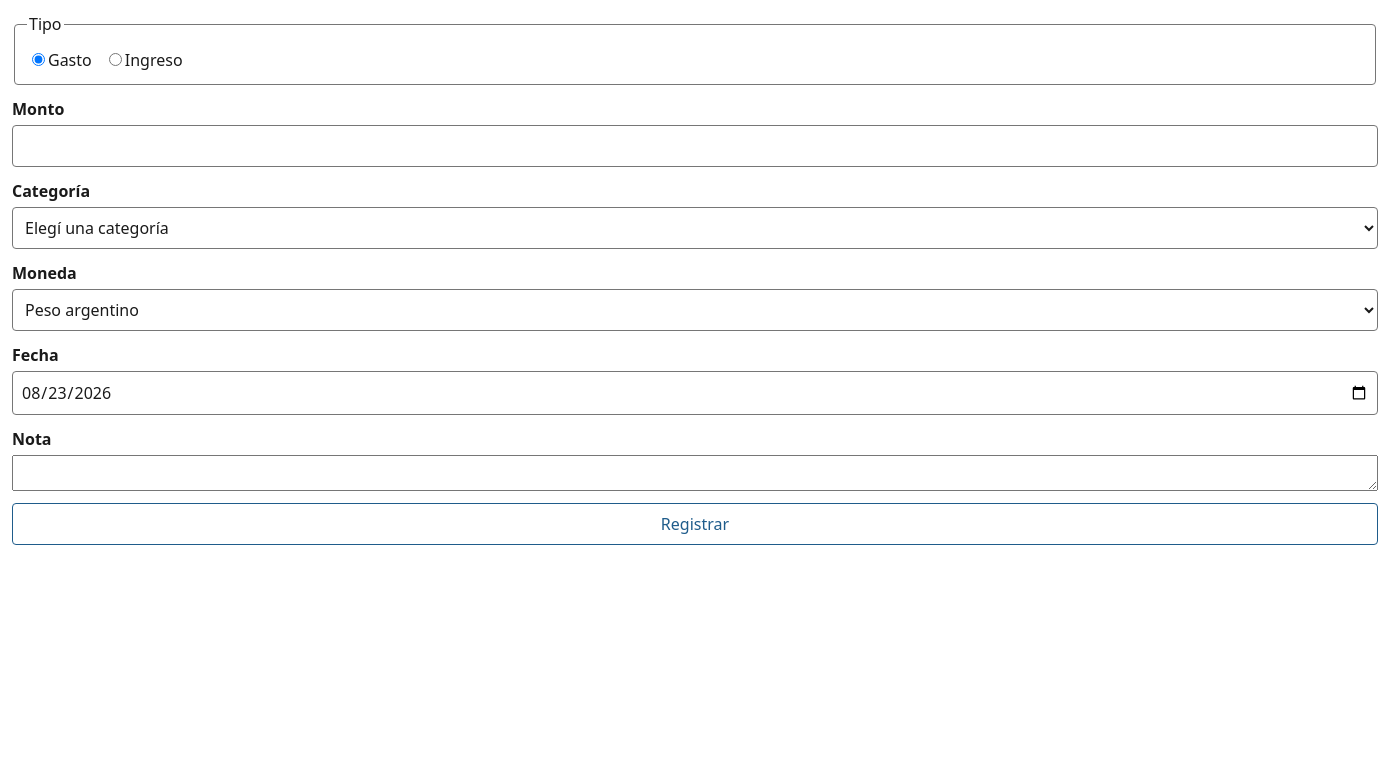
Test: validación en el formulario › muestra el error de categoría junto a su selector AC-40
The width and height of the screenshot is (1390, 780).
In the number field labelled "Monto": (695, 146) [12, 125, 1378, 167], type "100"
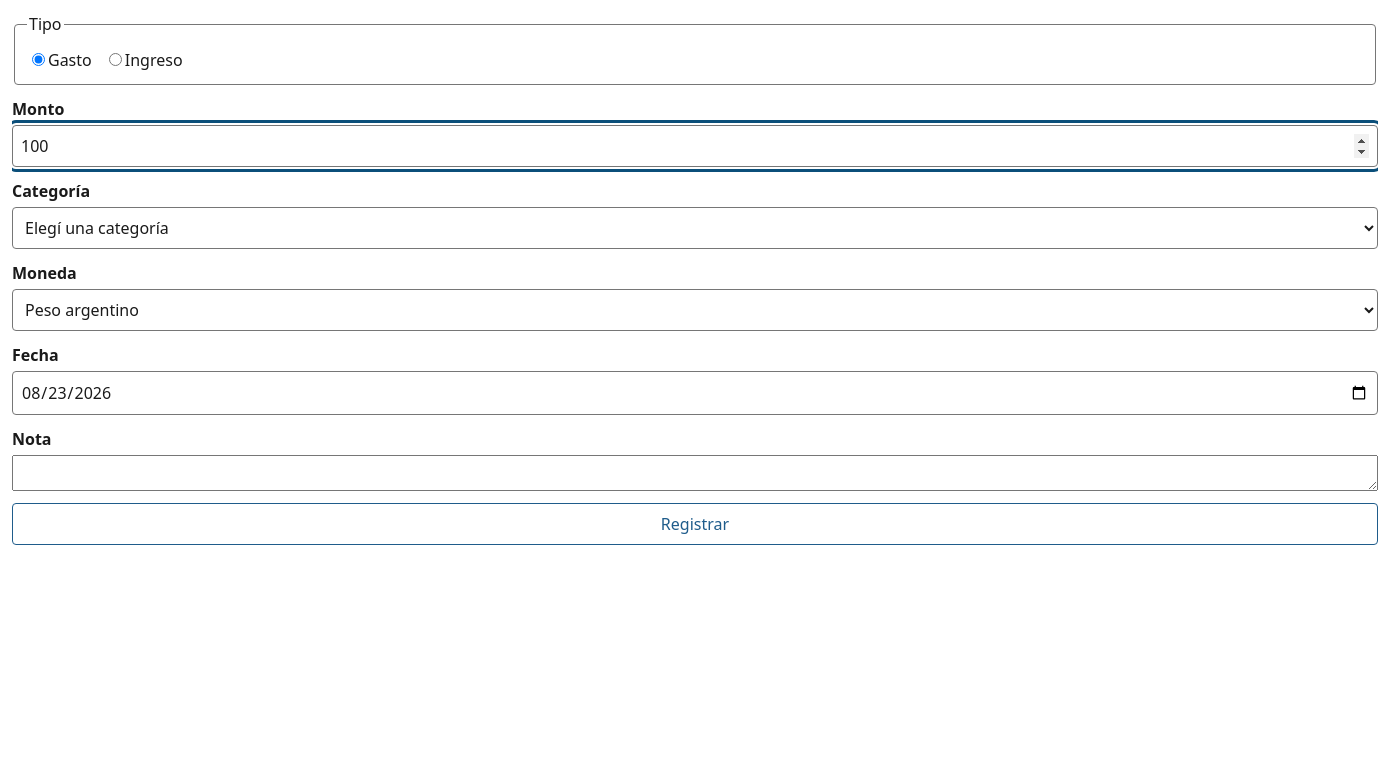
Click the button "Registrar": (695, 524) [12, 503, 1378, 545]
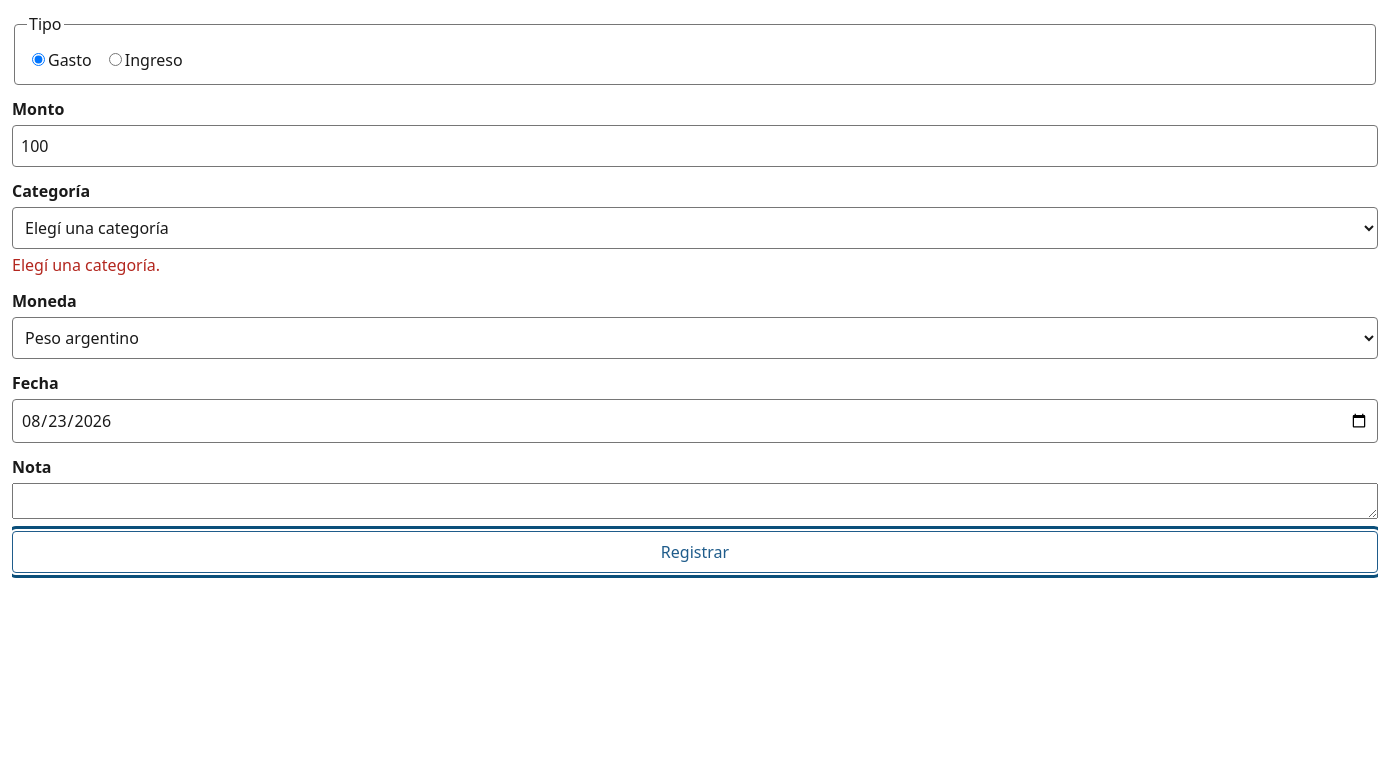
Now the message with id "categoriaId-error" shows "categoría", box [12, 254, 160, 276]
